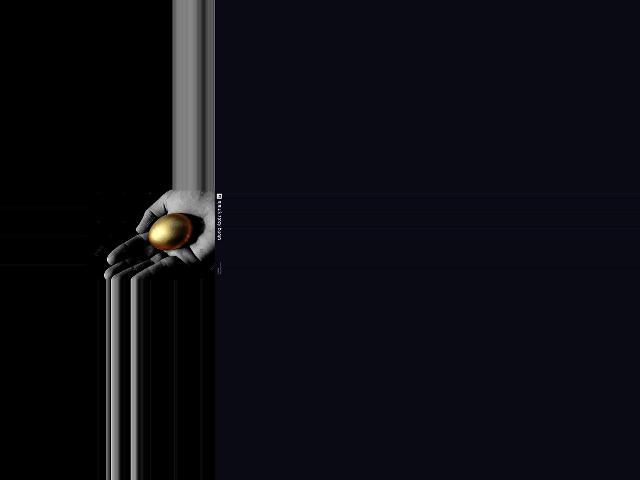egg: (148, 214, 192, 250)
